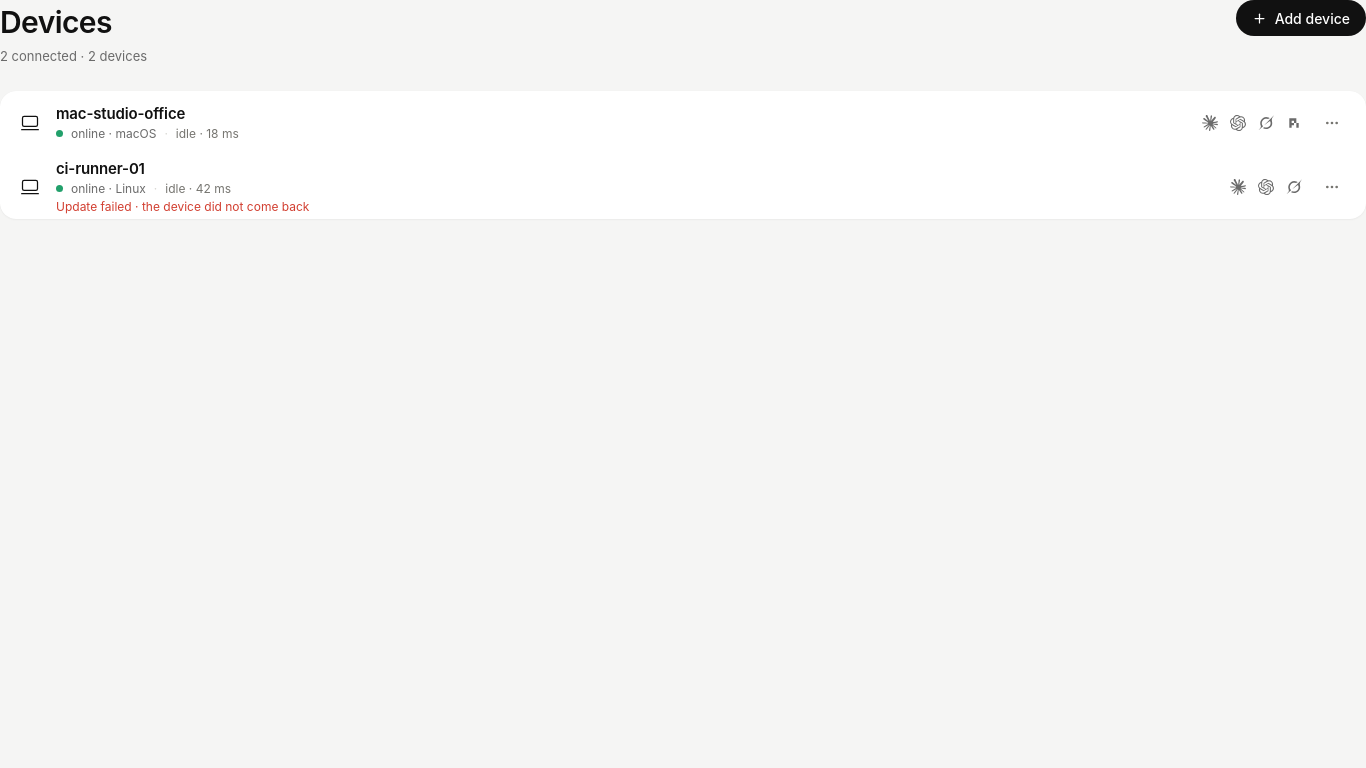
Test: the Retry update item › shows the device’s own words when the retry is refused
This screenshot has width=1366, height=768.
Click the button named "Open menu" in the row of "Linux".
click(1332, 186)  # box [1318, 172, 1346, 200]
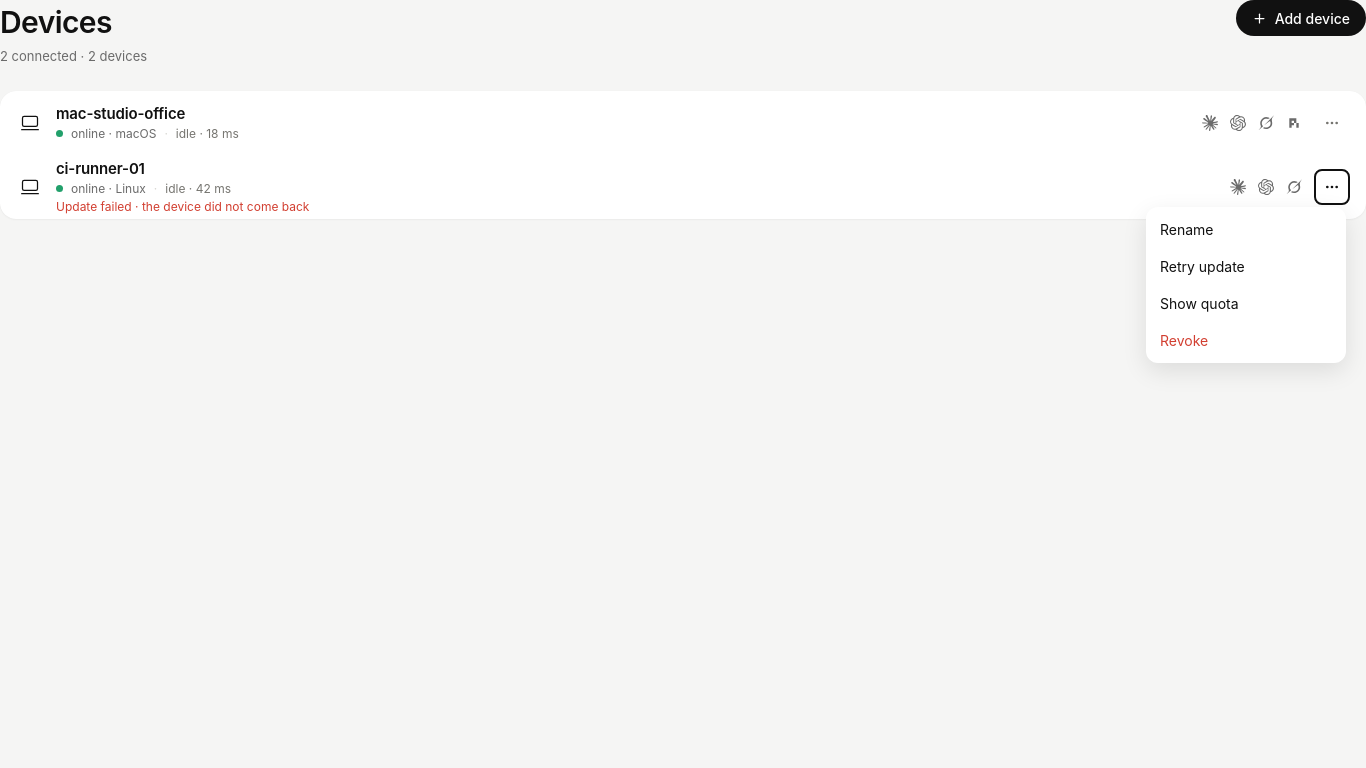
Click the menu item "Retry update".
click(1246, 266)  # box [1150, 248, 1342, 285]
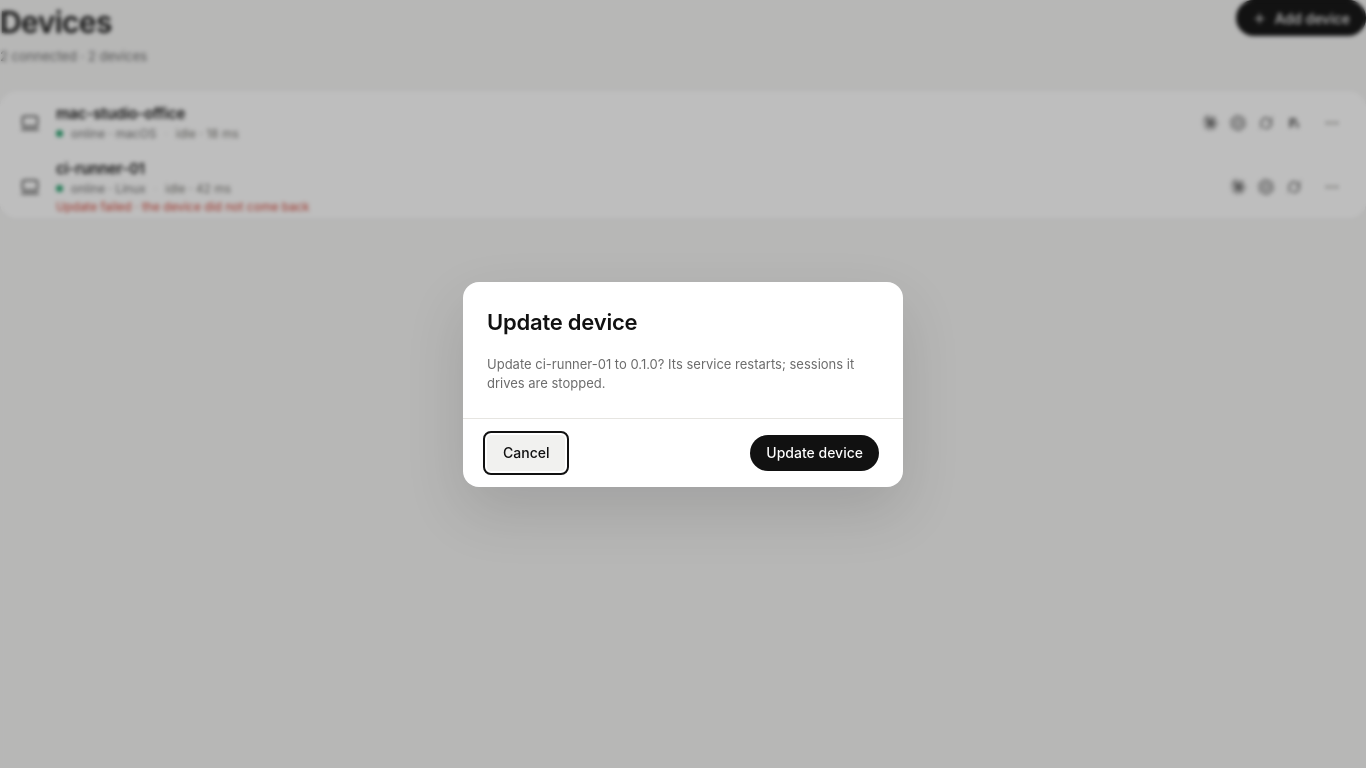
Click the button "Update device".
click(815, 452)  # box [750, 434, 879, 470]
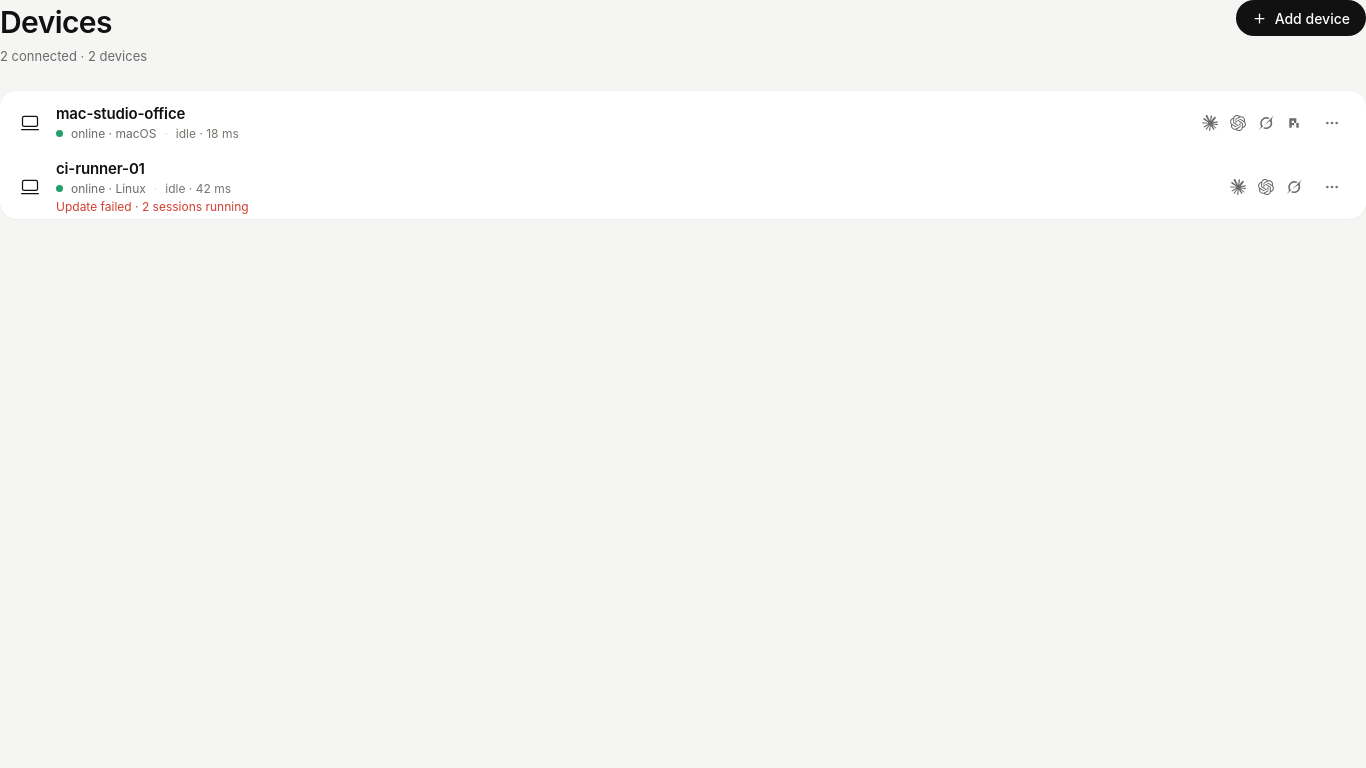
Click the button named "Open menu" in the row of "Linux".
click(1332, 186)  # box [1318, 172, 1346, 200]
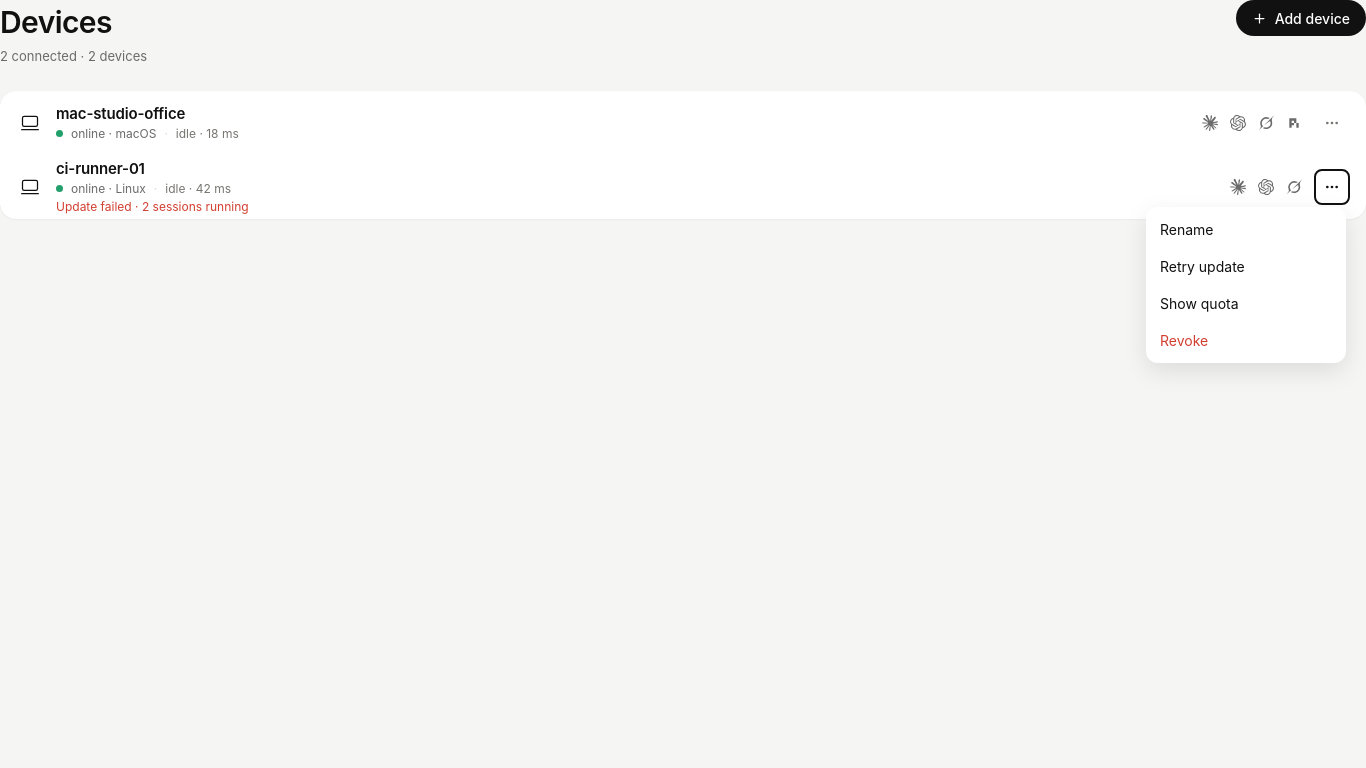
Check: the menu item "Retry update" is enabled, box [1150, 248, 1342, 285]
